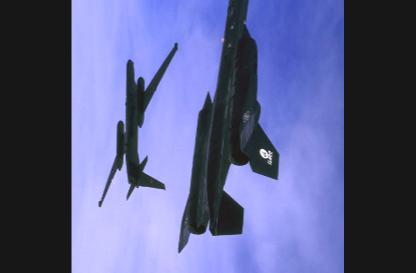Rafale: (179, 0, 281, 253)
Tu160: (99, 42, 178, 207)
